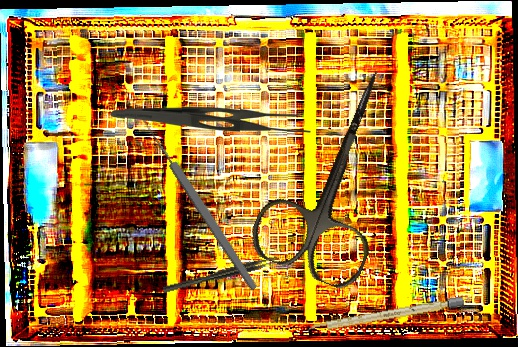Dressing Forceps: (109, 104, 313, 140)
Iris Scissors: (243, 49, 434, 295)
Scalpel Handle: (306, 296, 465, 334)
Surgical Spoon: (132, 105, 260, 293)
Tissue Forceps: (161, 254, 279, 294)
